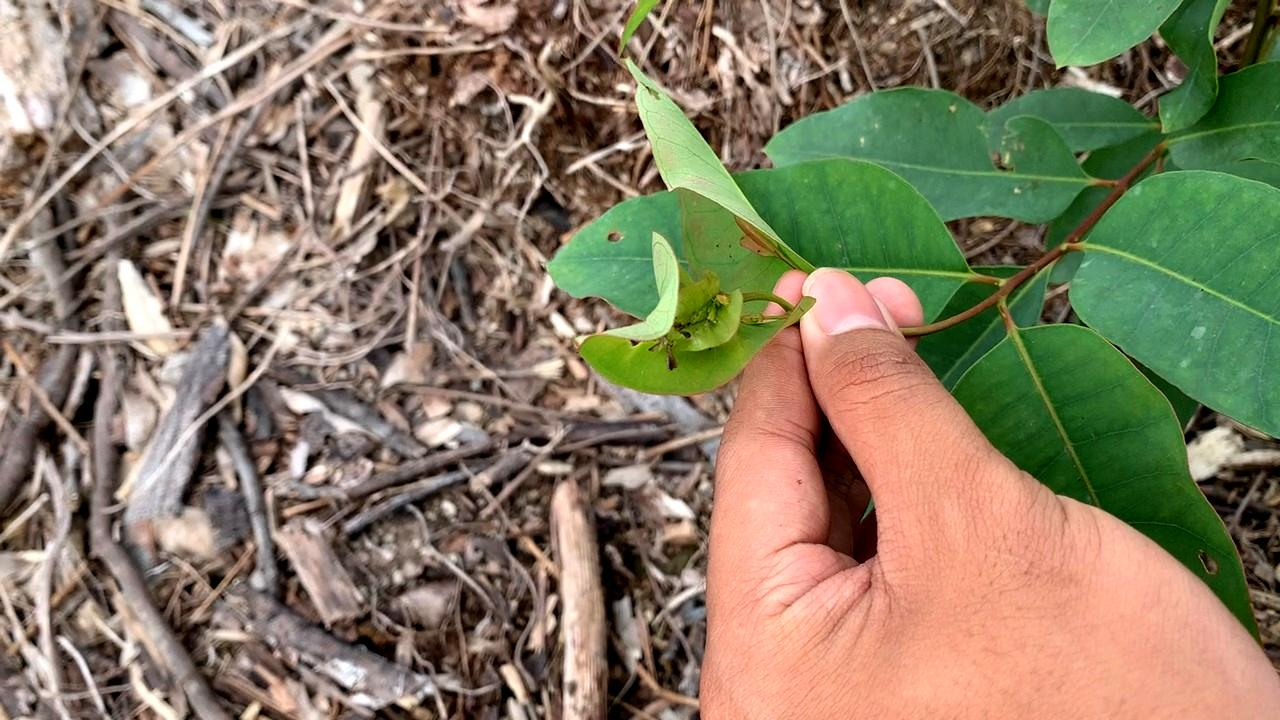Leaf Roller - Leaf: (562, 228, 826, 397)
